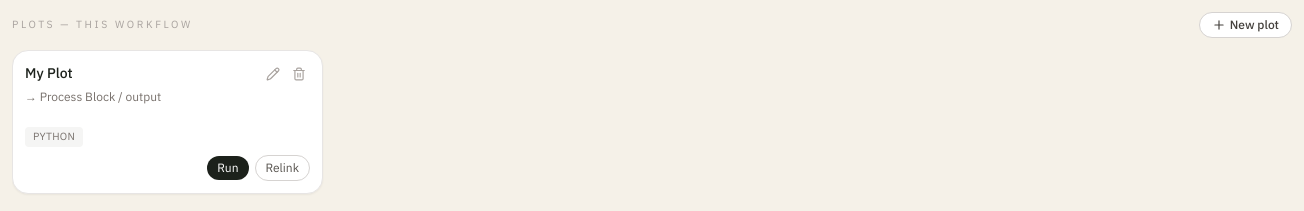
it: PlotsTab › confirms deletion, deletes the plot, and refreshes project files
Step 1. Click the button named "Delete plot My Plot" → (299, 74), box [288,63,310,85]
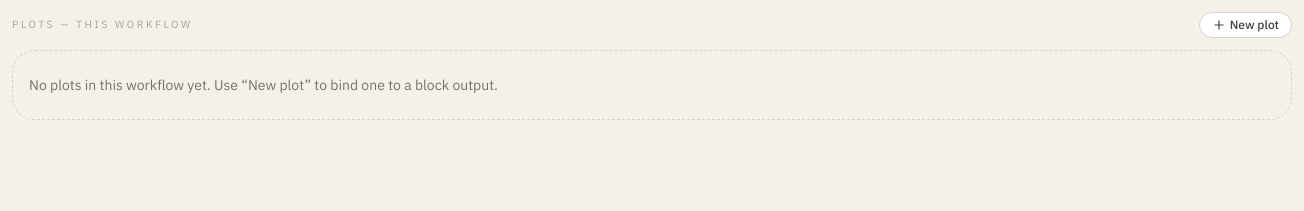
Expected: the element with test id "plot-card-p1" is gone
